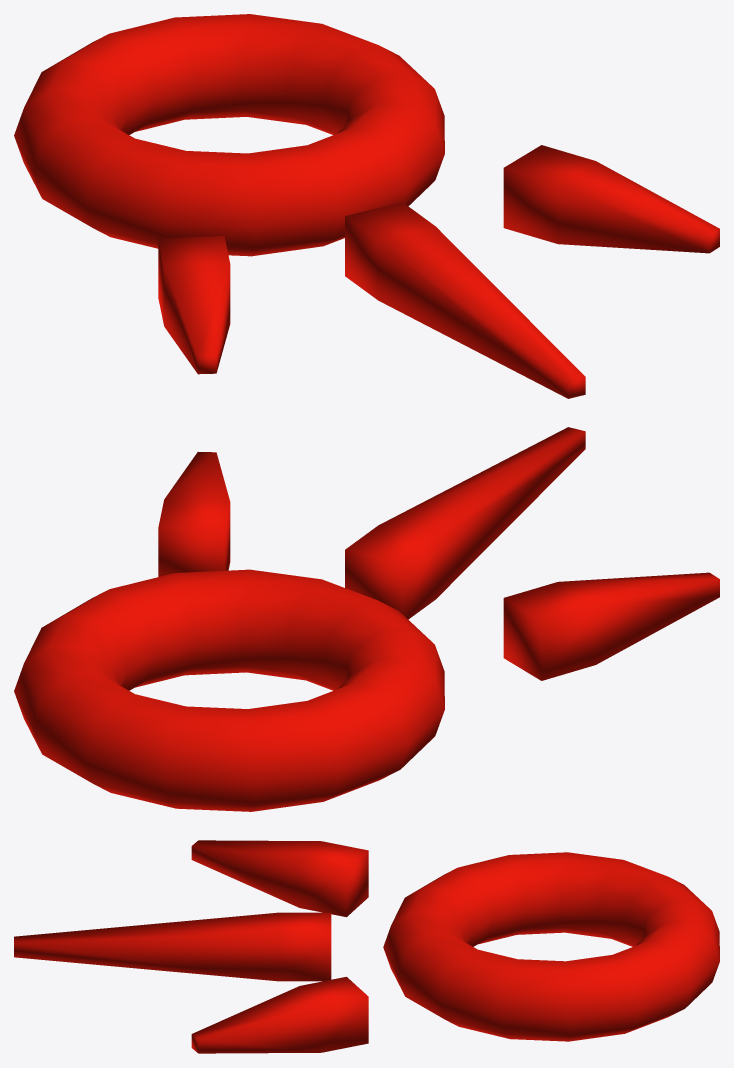
The model's file is reward.fbx.
3 views of the same model, one above another, from view 1: azimuth 30°, elevation 25°; view 2: azimuth 150°, elevation 25°; view 3: azimuth 270°, elevation 25° (orthographic). The views are drawn at different scales.
Parts seen in each view (by area): view 1: reward; view 2: reward; view 3: reward.
Boxes of the visible parts, x1,y1,x2,y2 form: reward: (14, 14, 719, 398); reward: (14, 427, 719, 811); reward: (14, 840, 719, 1053).
Bounding box in the file's own units: 1.14 × 0.1864 × 1.71.
